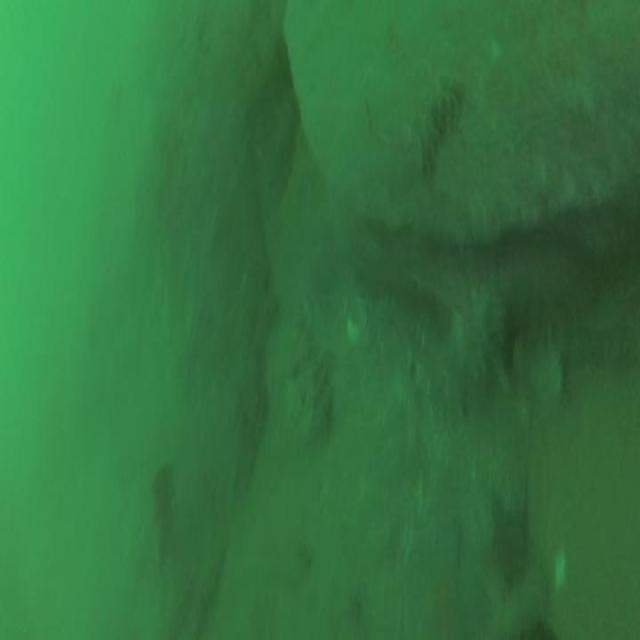holothurian: (291, 307, 334, 444), (413, 84, 467, 177)
